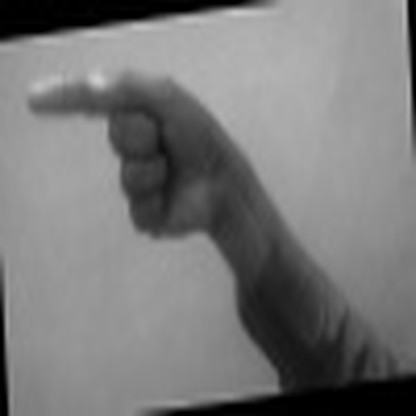g: (17, 57, 250, 239)
